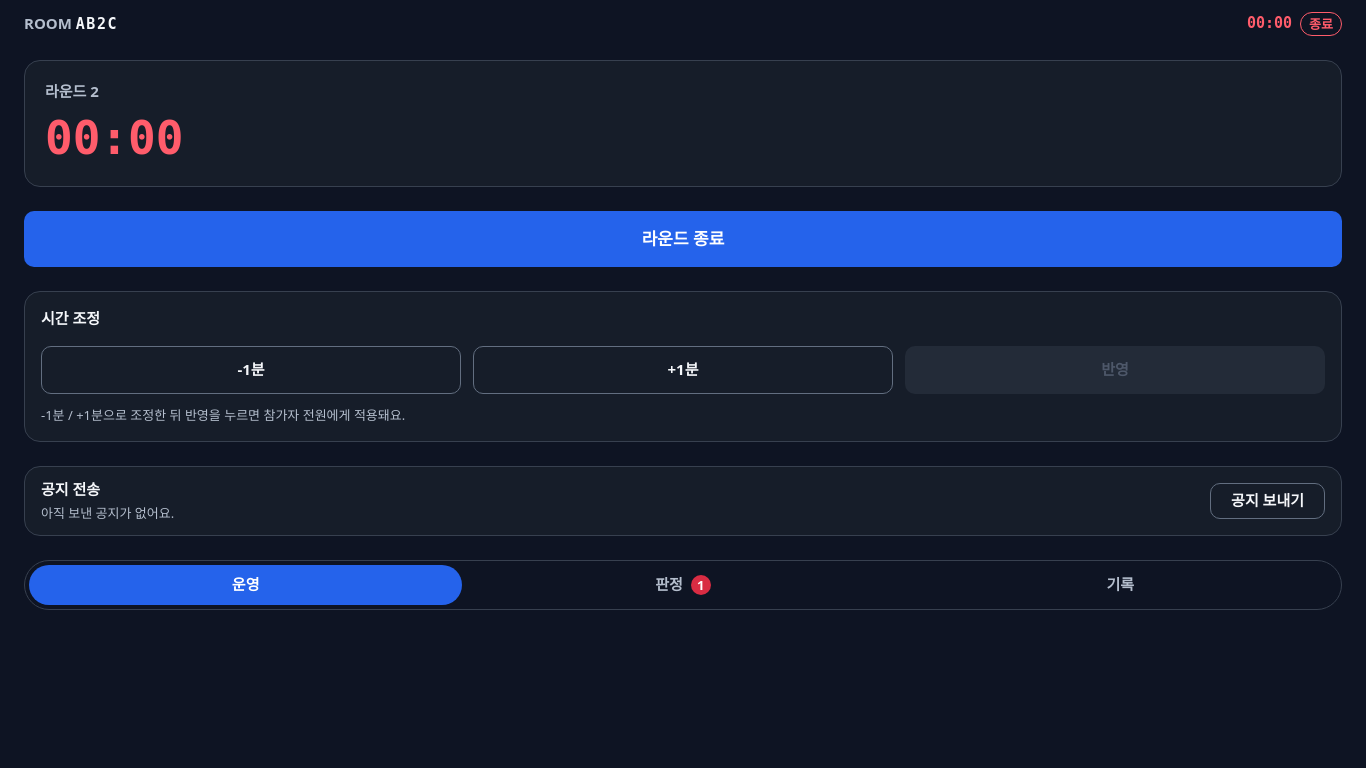
Test case: RoundOpsPage › 라운드 종료 › 먼저 판정하기를 고르면 종료하지 않고 판정 탭으로 데려간다
Click the button "라운드 종료".
click(683, 239)  # box 24,211 -> 1342,267
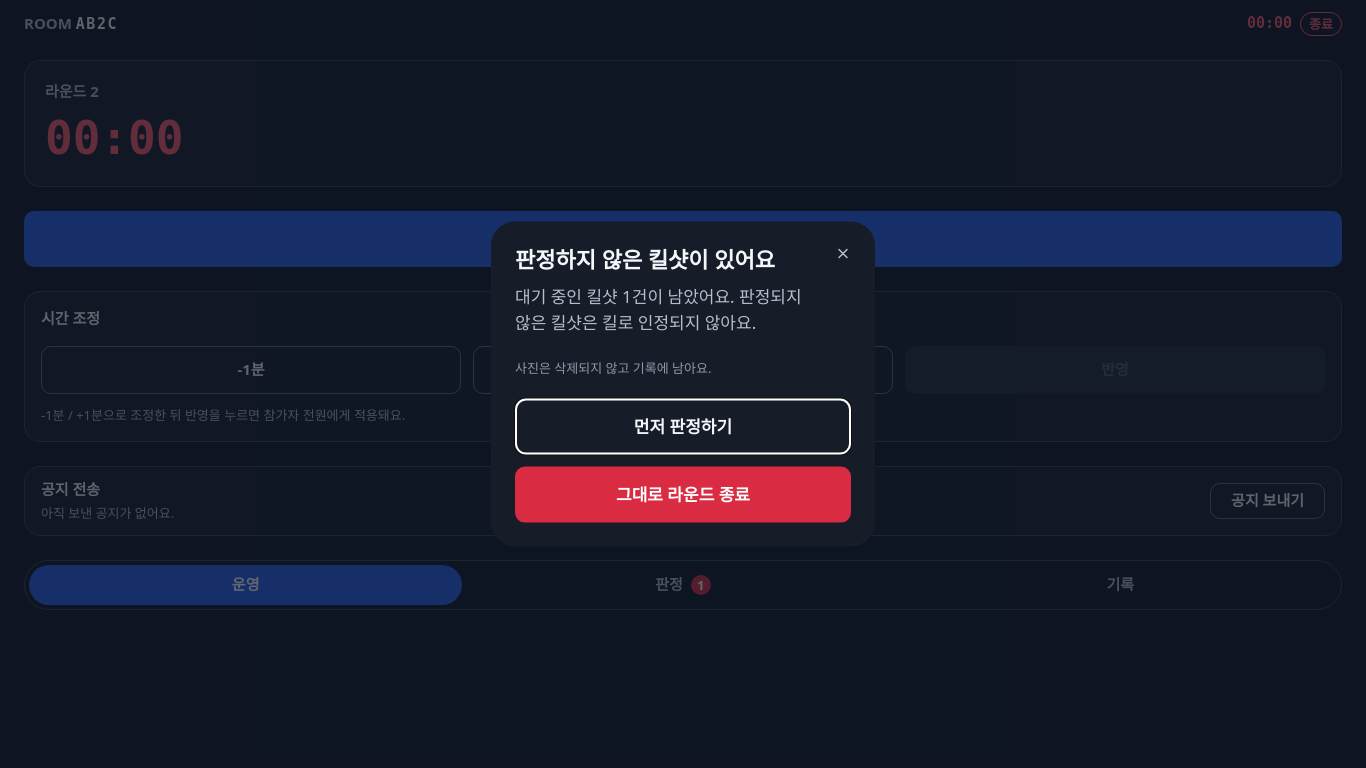
Click the button "먼저 판정하기".
click(683, 426)  # box 515,398 -> 851,454
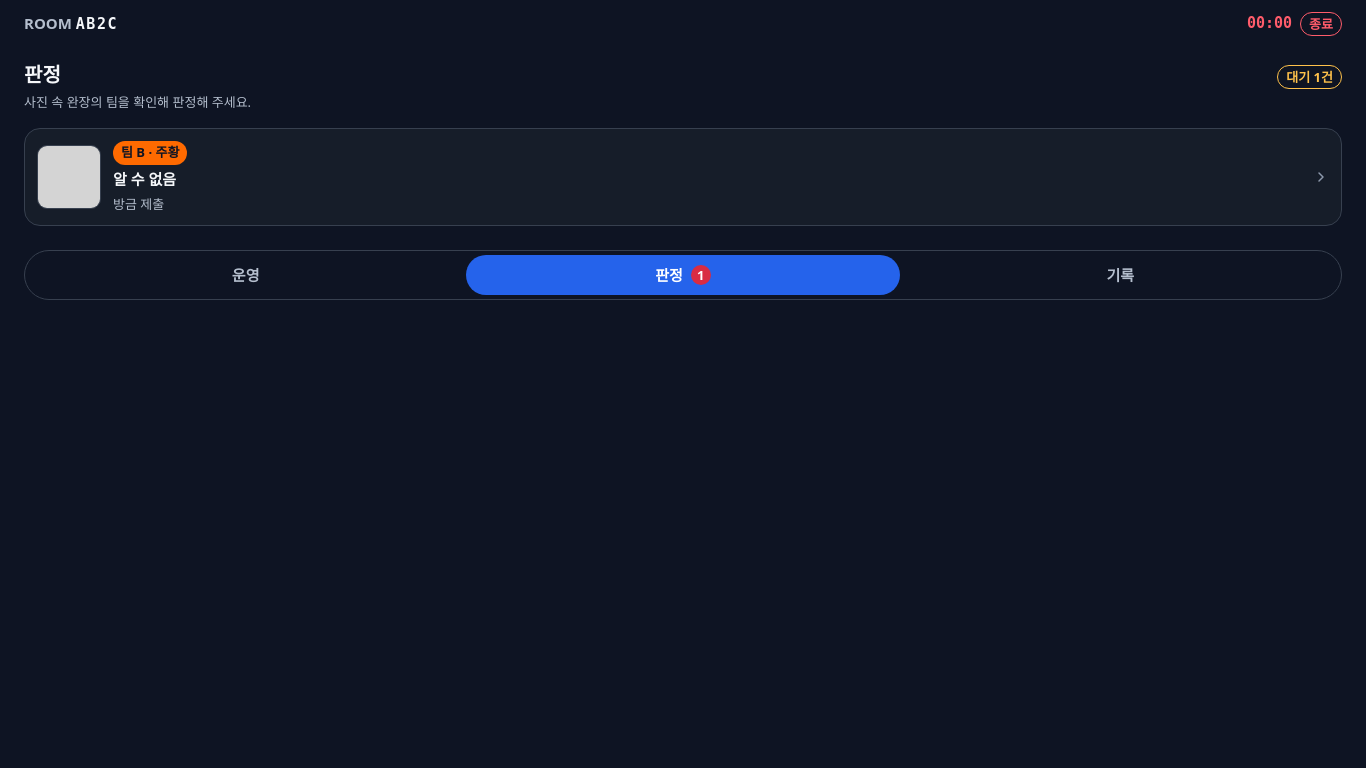
Check: the text "판정하지 않은 킬샷이 있어요" is gone
Check: the text "사진 속 완장의 팀을 확인해 판정해 주세요." is shown, box 24,93 -> 251,112
